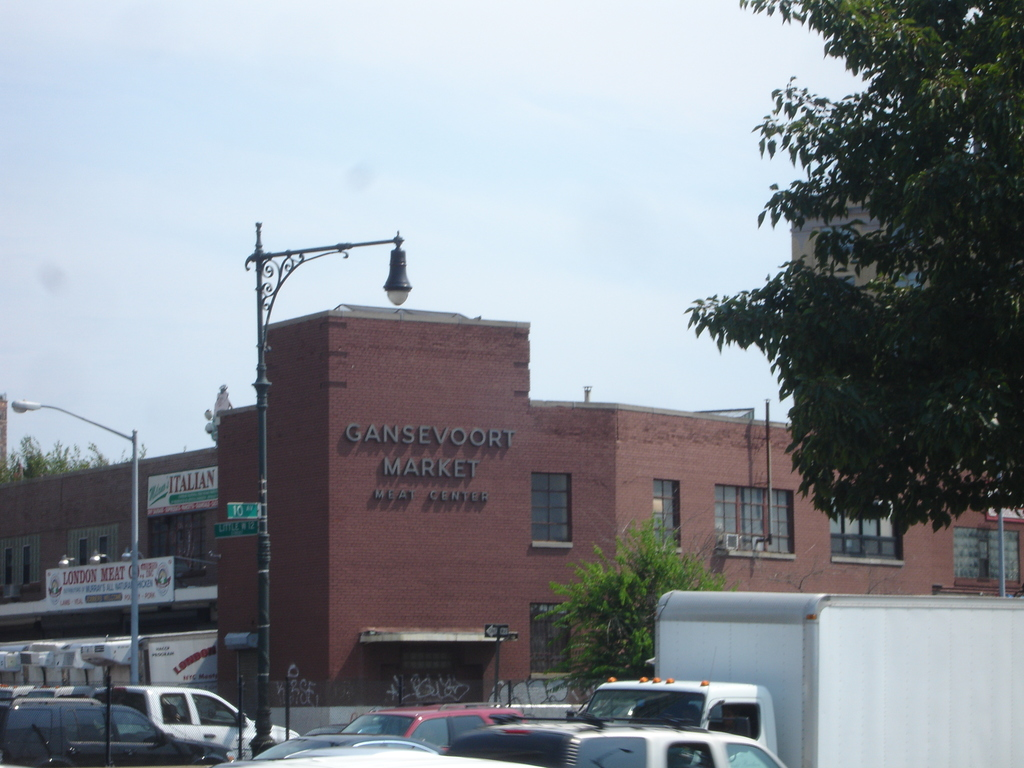Car: (213, 702, 789, 767), (0, 696, 231, 767)
